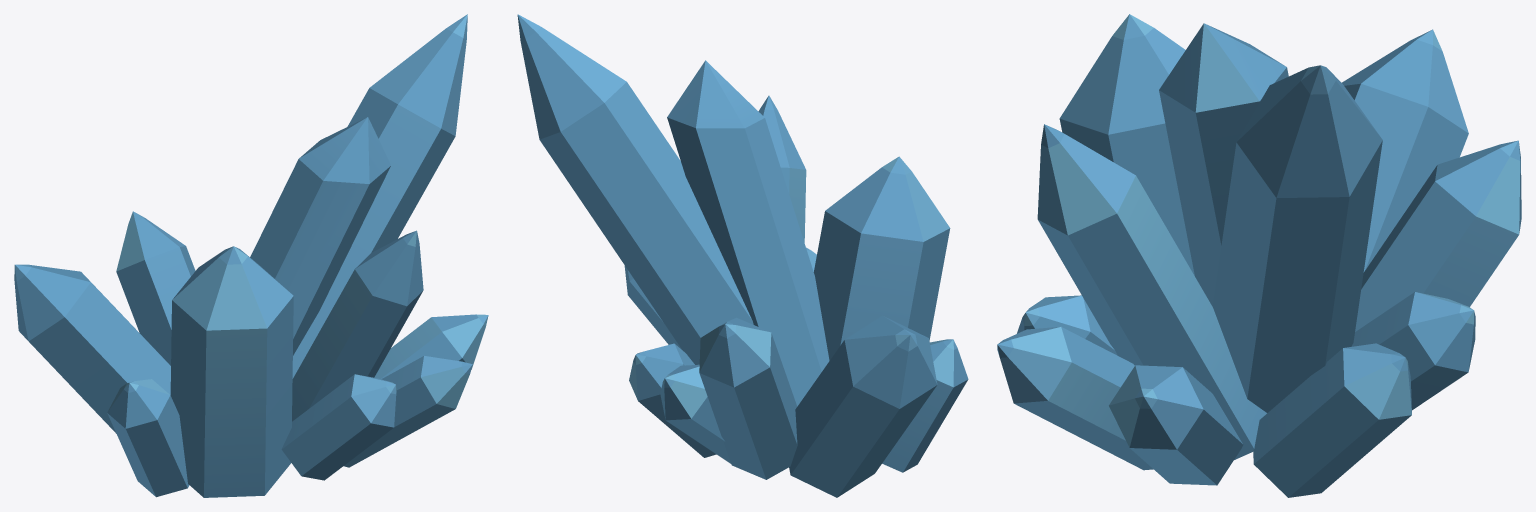
File: geology-crystals-icecrystalcluster_v2.fbx
The picture shows the model from 3 angles, left to right: view 1: azimuth 30°, elevation 25°; view 2: azimuth 150°, elevation 25°; view 3: azimuth 270°, elevation 25°; orthographic projection. The views are drawn at different scales.
Parts seen in each view (by area): view 1: IceCrystalCluster_v2; view 2: IceCrystalCluster_v2; view 3: IceCrystalCluster_v2.
Part boxes in pixels (<box>): IceCrystalCluster_v2: <box>14,14,488,497</box>; IceCrystalCluster_v2: <box>517,14,968,497</box>; IceCrystalCluster_v2: <box>997,14,1521,497</box>.
Size of the model in its own units: 9.46 by 8.2 by 7.01.
